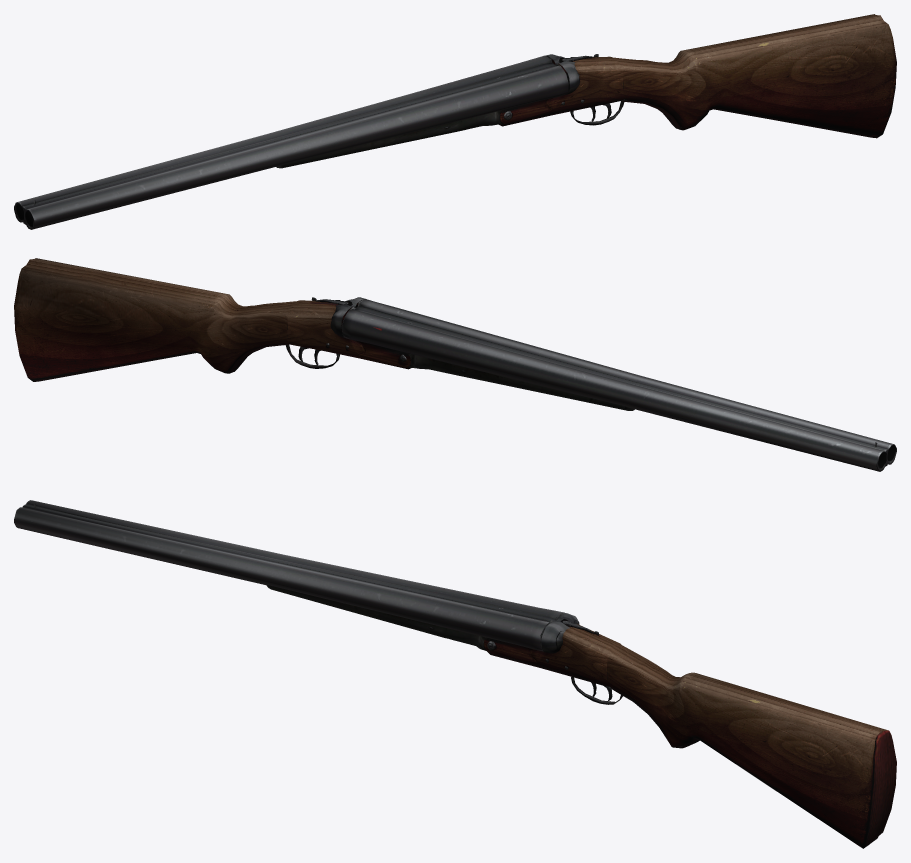
File: SHOOTGUN.fbx
The picture shows the model from 3 angles, top to bottom: view 1: azimuth 30°, elevation 25°; view 2: azimuth 150°, elevation 25°; view 3: azimuth 330°, elevation 25°; orthographic projection.
Visible parts, largest first — view 1: shoot gun 2, shoot gun 2.001; view 2: shoot gun 2, shoot gun 2.001; view 3: shoot gun 2, shoot gun 2.001.
Part boxes in pixels (bbox=[...]): shoot gun 2: bbox=[495, 14, 896, 138]; shoot gun 2.001: bbox=[14, 55, 568, 229]; shoot gun 2: bbox=[14, 258, 417, 381]; shoot gun 2.001: bbox=[341, 299, 896, 471]; shoot gun 2: bbox=[480, 613, 896, 848]; shoot gun 2.001: bbox=[14, 500, 564, 651].
Bounding box in the file's own units: 115 × 19.38 × 6.69.
